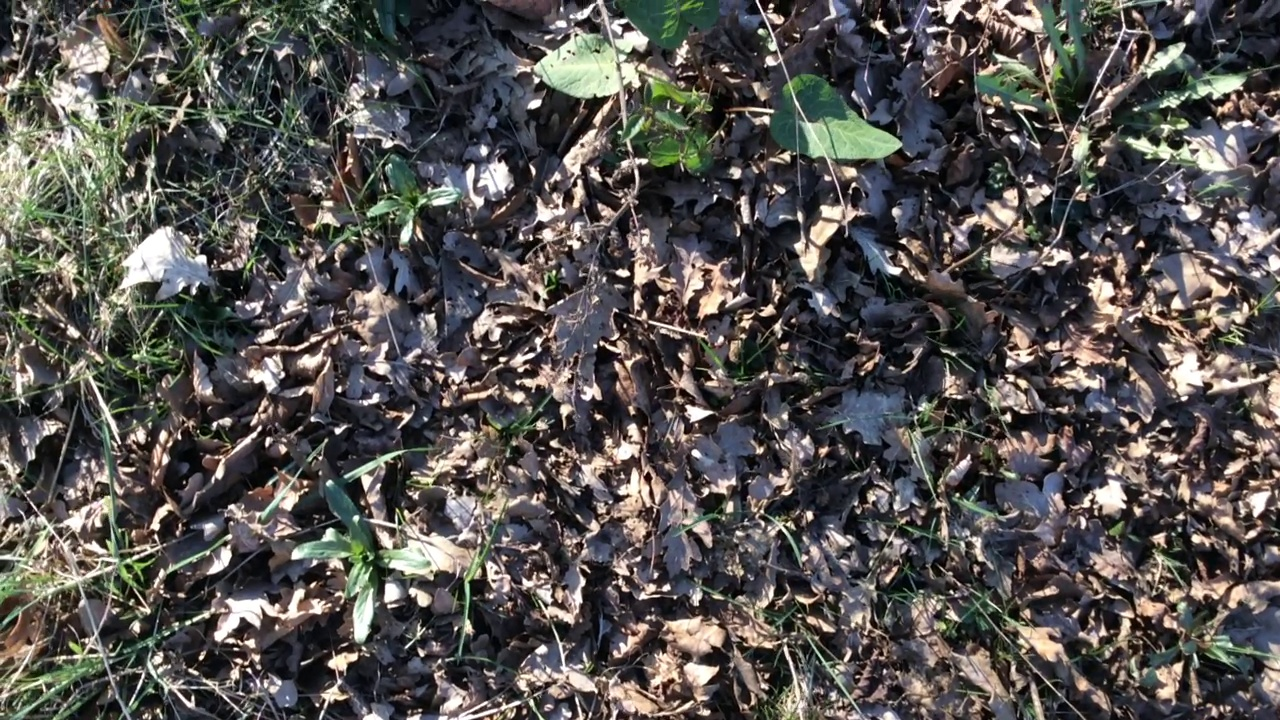rumex: (533, 1, 902, 176)
